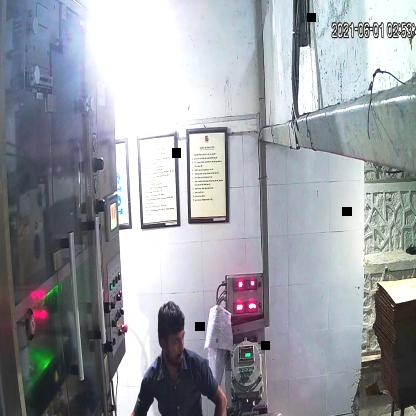no_goggles: (156, 330, 189, 352)
